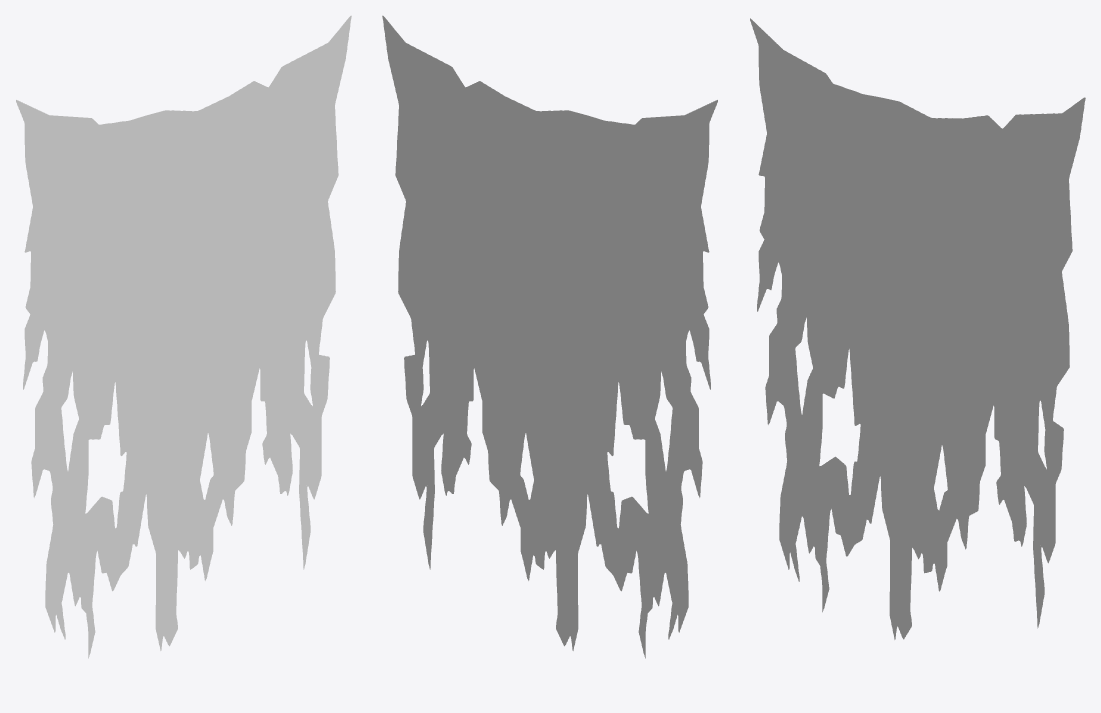
File: SM_Prop_Flag_07.fbx
3 renders of one model, left to right at view 1: azimuth 30°, elevation 25°; view 2: azimuth 150°, elevation 25°; view 3: azimuth 330°, elevation 25°, orthographic.
Parts seen in each view (by area): view 1: SM_Prop_Flag_07; view 2: SM_Prop_Flag_07; view 3: SM_Prop_Flag_07.
Boxes of the visible parts, x1=… form: SM_Prop_Flag_07: x1=16, y1=15, x2=351, y2=658; SM_Prop_Flag_07: x1=382, y1=15, x2=717, y2=658; SM_Prop_Flag_07: x1=750, y1=18, x2=1085, y2=639.
Bounding box in the file's own units: 128 × 218 × 0.
